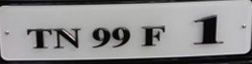character: (190, 12, 222, 45), (51, 27, 81, 50), (25, 27, 52, 50), (140, 24, 166, 46), (109, 26, 132, 49), (90, 26, 111, 49)
